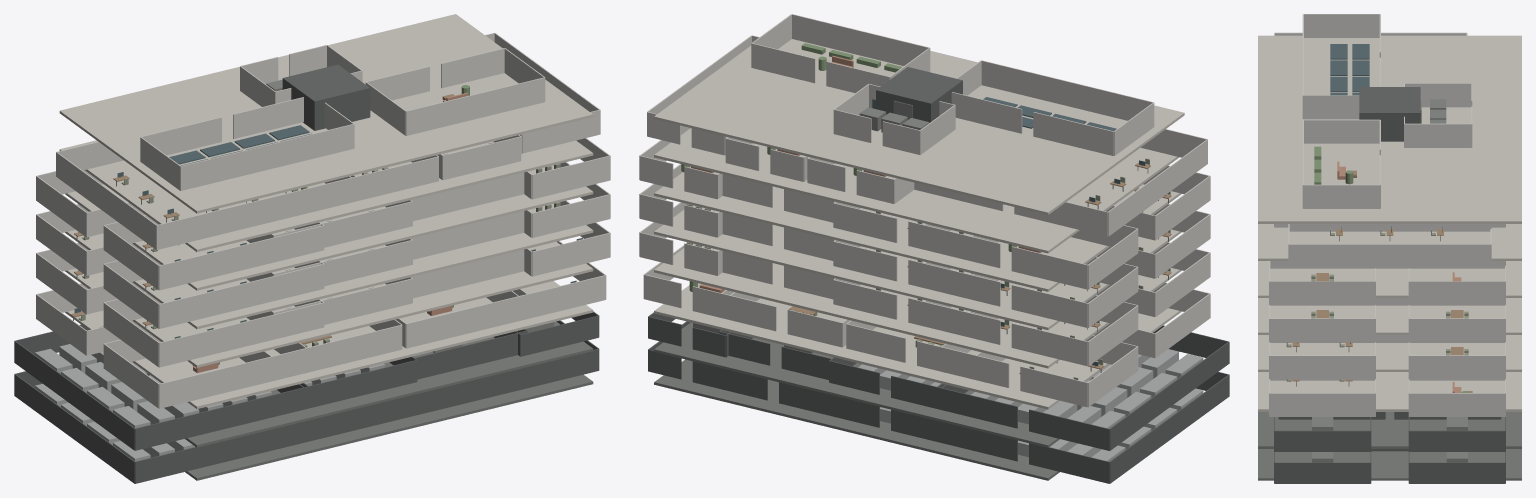
Rendered from main-workplace.glb.
3 renders of one model, left to right at view 1: azimuth 30°, elevation 25°; view 2: azimuth 150°, elevation 25°; view 3: azimuth 270°, elevation 25°, orthographic. The views are drawn at different scales.
Visible parts, largest first — view 1: ROOF_ROOF_slab, L4_L4_slab, G_G_slab, L1_L1_slab, L3_L3_slab, L2_L2_slab, B1_B1_slab, L4_flex_neighborhood_north, B2_B2_slab, ROOF_solar_north, L1_ai_data_north, L2_sales_workspace_north (+52 smaller); view 2: ROOF_ROOF_slab, L4_L4_slab, G_G_slab, L3_L3_slab, L2_L2_slab, L1_L1_slab, B1_B1_slab, B2_B2_slab, ROOF_solar_north, ROOF_green_terrace_north, ROOF_ROOF_core, B2_car_parking_west_west (+79 smaller); view 3: ROOF_ROOF_slab, L4_multipurpose_capacity_east, G_G_slab, L4_L4_slab, L3_L3_slab, L2_L2_slab, L1_L1_slab, B1_B1_slab, B2_B2_slab, L1_collab_focus_east, L2_client_call_meet_east, L3_meeting_records_east (+25 smaller).
Boxes of the visible parts, x1=… form: ROOF_ROOF_slab: x1=59, y1=14, x2=593, y2=213; L4_L4_slab: x1=59, y1=140, x2=593, y2=251; G_G_slab: x1=65, y1=281, x2=593, y2=408; L1_L1_slab: x1=65, y1=241, x2=593, y2=367; L3_L3_slab: x1=65, y1=165, x2=593, y2=290; L2_L2_slab: x1=65, y1=203, x2=593, y2=329; B1_B1_slab: x1=185, y1=321, x2=593, y2=447; L4_flex_neighborhood_north: x1=156, y1=176, x2=356, y2=249; B2_B2_slab: x1=185, y1=374, x2=593, y2=480; ROOF_solar_north: x1=180, y1=124, x2=354, y2=190; L1_ai_data_north: x1=159, y1=302, x2=324, y2=367; L2_sales_workspace_north: x1=159, y1=264, x2=324, y2=328; ROOF_ROOF_slab: x1=654, y1=39, x2=1184, y2=214; L4_L4_slab: x1=654, y1=128, x2=1179, y2=253; G_G_slab: x1=654, y1=283, x2=1181, y2=409; L3_L3_slab: x1=654, y1=166, x2=1181, y2=291; L2_L2_slab: x1=654, y1=205, x2=1181, y2=329; L1_L1_slab: x1=654, y1=243, x2=1181, y2=368; B1_B1_slab: x1=654, y1=322, x2=1179, y2=447; B2_B2_slab: x1=654, y1=359, x2=1059, y2=480; ROOF_solar_north: x1=981, y1=60, x2=1153, y2=120; ROOF_green_terrace_north: x1=792, y1=14, x2=929, y2=65; ROOF_ROOF_core: x1=876, y1=67, x2=962, y2=122; B2_car_parking_west_west: x1=1109, y1=374, x2=1229, y2=483; ROOF_ROOF_slab: x1=1258, y1=35, x2=1521, y2=223; L4_multipurpose_capacity_east: x1=1289, y1=244, x2=1490, y2=268; G_G_slab: x1=1258, y1=372, x2=1521, y2=411; L4_L4_slab: x1=1258, y1=224, x2=1521, y2=260; L3_L3_slab: x1=1258, y1=261, x2=1521, y2=297; L2_L2_slab: x1=1258, y1=298, x2=1521, y2=334; L1_L1_slab: x1=1258, y1=335, x2=1521, y2=371; B1_B1_slab: x1=1258, y1=412, x2=1521, y2=448; B2_B2_slab: x1=1258, y1=449, x2=1521, y2=480; L1_collab_focus_east: x1=1269, y1=355, x2=1375, y2=379; L2_client_call_meet_east: x1=1269, y1=318, x2=1375, y2=342; L3_meeting_records_east: x1=1269, y1=281, x2=1375, y2=305.
Size of the model in its own units: 54.62 by 32.99 by 27.43.
